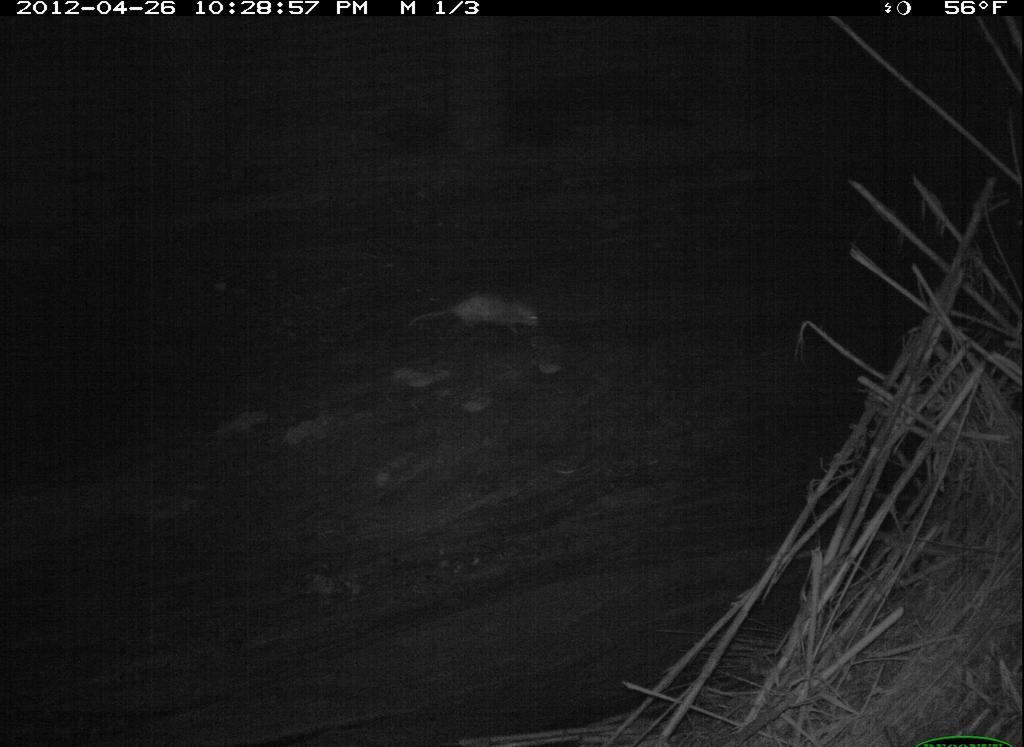opossum: (396, 286, 547, 355)
